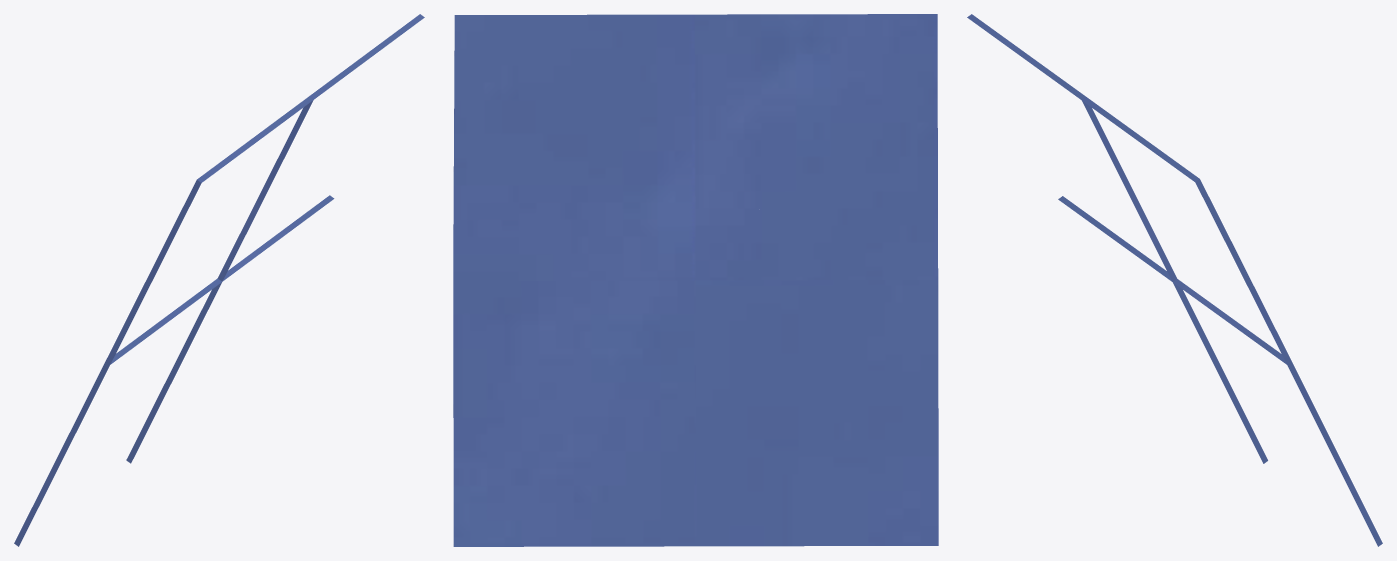
3 renders of one model, left to right at view 1: azimuth 30°, elevation 25°; view 2: azimuth 150°, elevation 25°; view 3: azimuth 270°, elevation 25°, orthographic. The views are drawn at different scales.
Bounding box in the file's own units: 19663 × 17861 × 16377.
Materials: 1 (1 with a texture image).
